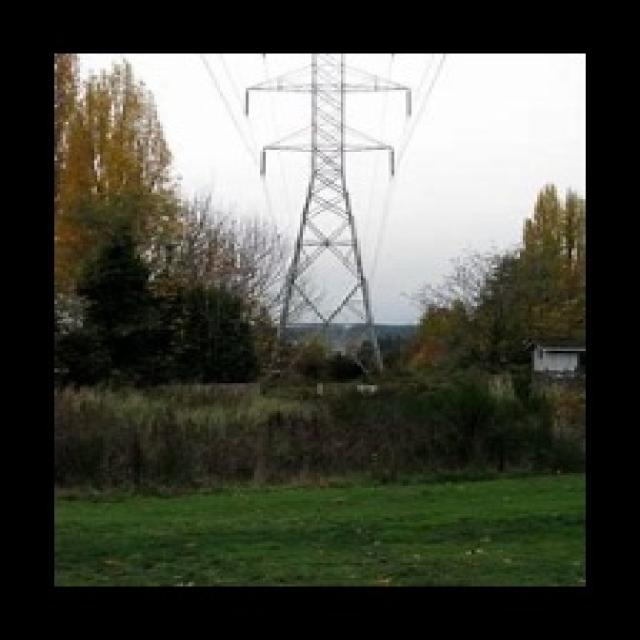utility poles: (221, 242, 331, 388), (345, 306, 488, 384)
